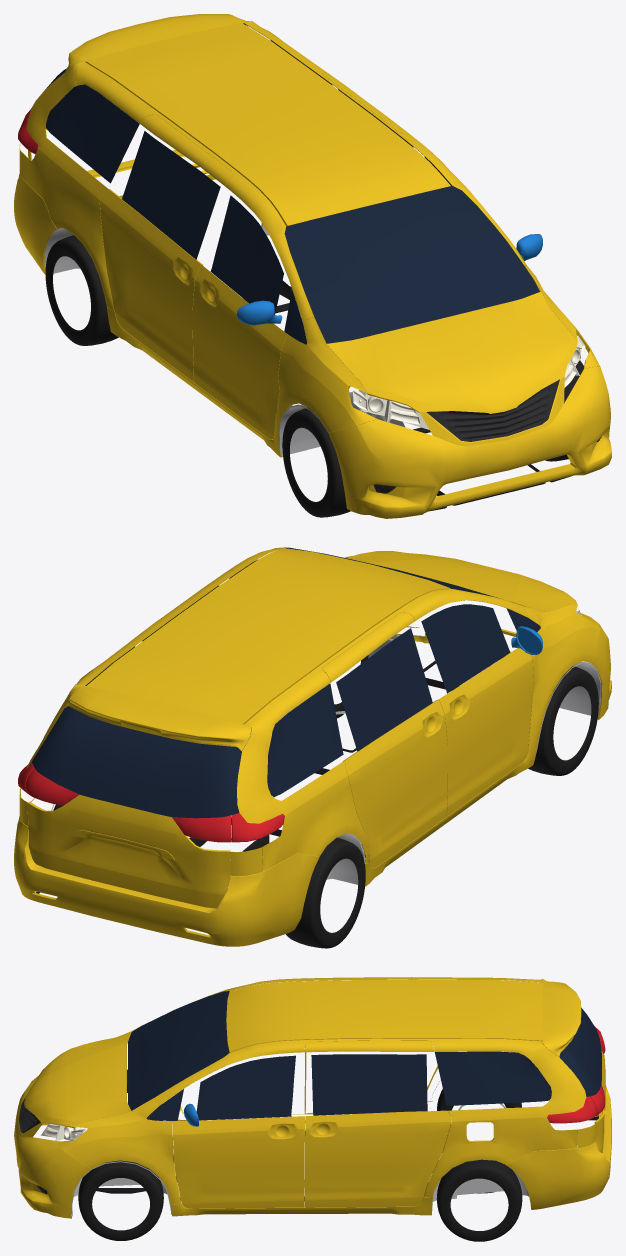
Rendered from taxi.glb.
3 renders of one model, top to bottom at view 1: azimuth 30°, elevation 25°; view 2: azimuth 150°, elevation 25°; view 3: azimuth 270°, elevation 25°, orthographic. The views are drawn at different scales.
Visible parts, largest first — view 1: Body_Elements, Windows, Wheels_Tyres, Front_Plastic_Elements, Wheels_Covers, Lights_Front, Mirrors_Cover, Body_Elements_Front; view 2: Body_Elements, Windows, Wheels_Tyres, Light_Back_Glass_Red, Wheels_Covers, Body_Elements_Back_Detail, Chassis_01; view 3: Body_Elements, Windows, Wheels_Tyres, Wheels_Covers, Light_Back_Glass_Red, Lights_Front, Front_Plastic_Elements.
Part boxes in pixels (bbox=[...]): Body_Elements: bbox=[14, 14, 611, 518]; Windows: bbox=[45, 23, 539, 344]; Wheels_Tyres: bbox=[45, 235, 584, 517]; Front_Plastic_Elements: bbox=[373, 379, 601, 493]; Wheels_Covers: bbox=[44, 223, 404, 456]; Lights_Front: bbox=[353, 335, 585, 429]; Mirrors_Cover: bbox=[237, 234, 542, 325]; Body_Elements_Front: bbox=[419, 377, 564, 446]; Body_Elements: bbox=[14, 547, 611, 946]; Windows: bbox=[31, 547, 540, 818]; Wheels_Tyres: bbox=[53, 655, 598, 948]; Light_Back_Glass_Red: bbox=[18, 762, 284, 842]; Wheels_Covers: bbox=[51, 633, 601, 884]; Body_Elements_Back_Detail: bbox=[72, 830, 174, 859]; Chassis_01: bbox=[36, 660, 458, 893]; Body_Elements: bbox=[14, 977, 611, 1218]; Windows: bbox=[128, 979, 601, 1120]; Wheels_Tyres: bbox=[78, 1069, 522, 1241]; Wheels_Covers: bbox=[71, 1080, 528, 1216]; Light_Back_Glass_Red: bbox=[547, 1027, 605, 1123]; Lights_Front: bbox=[41, 1123, 87, 1140]; Front_Plastic_Elements: bbox=[18, 1098, 47, 1193].
Size of the model in its own units: 1.89 by 1.45 by 4.2.
